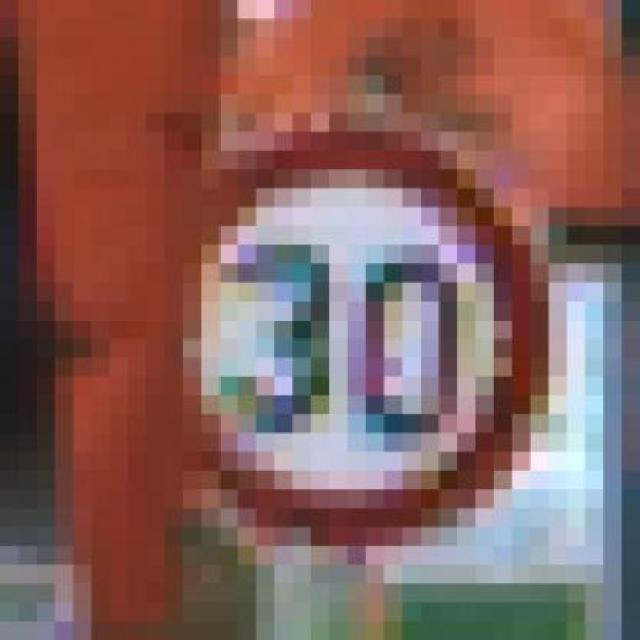forb_speed_over_30: (215, 138, 550, 545)
